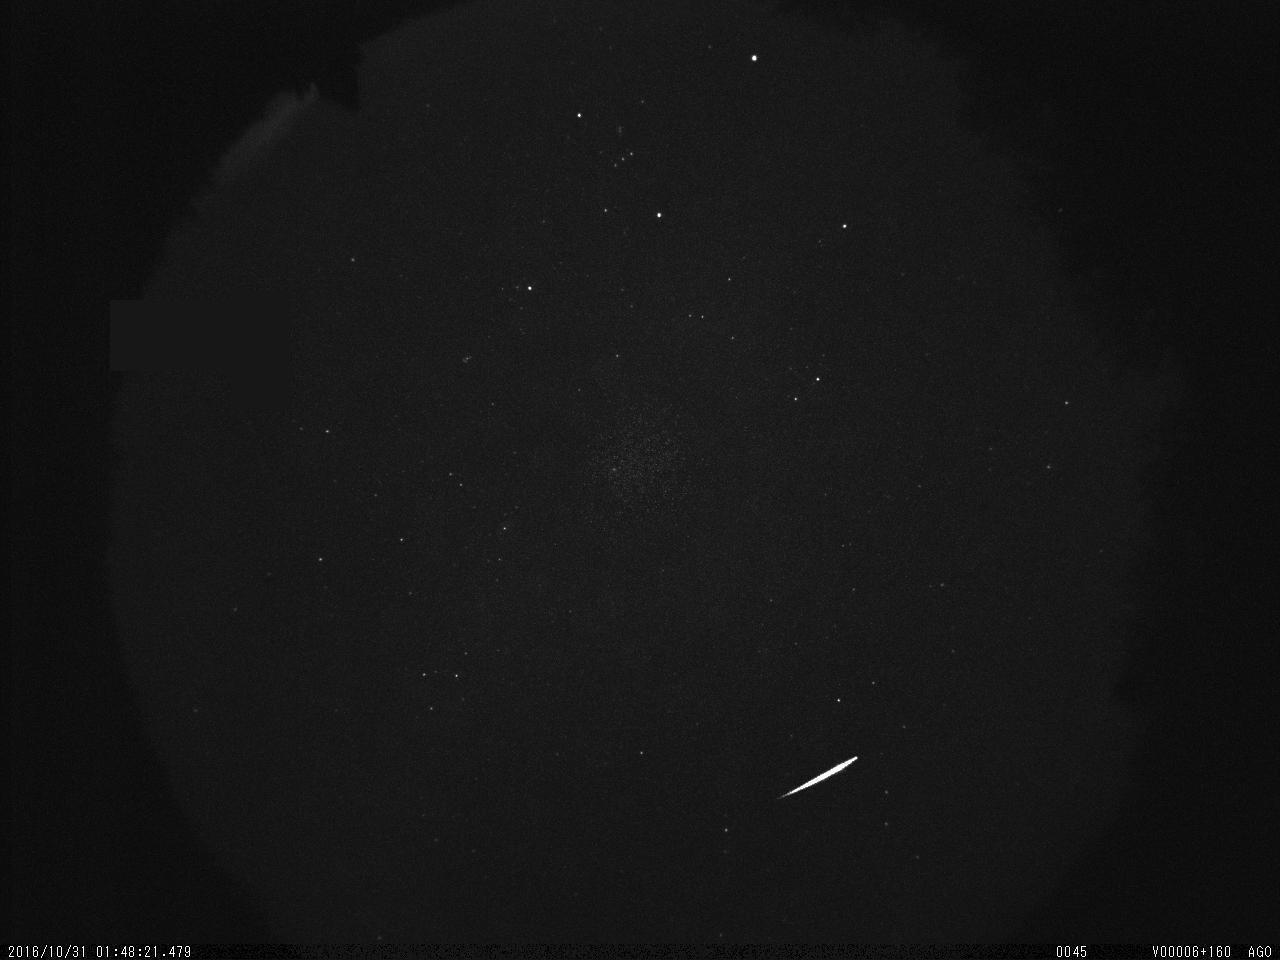Meteor: (776, 751, 868, 805)
